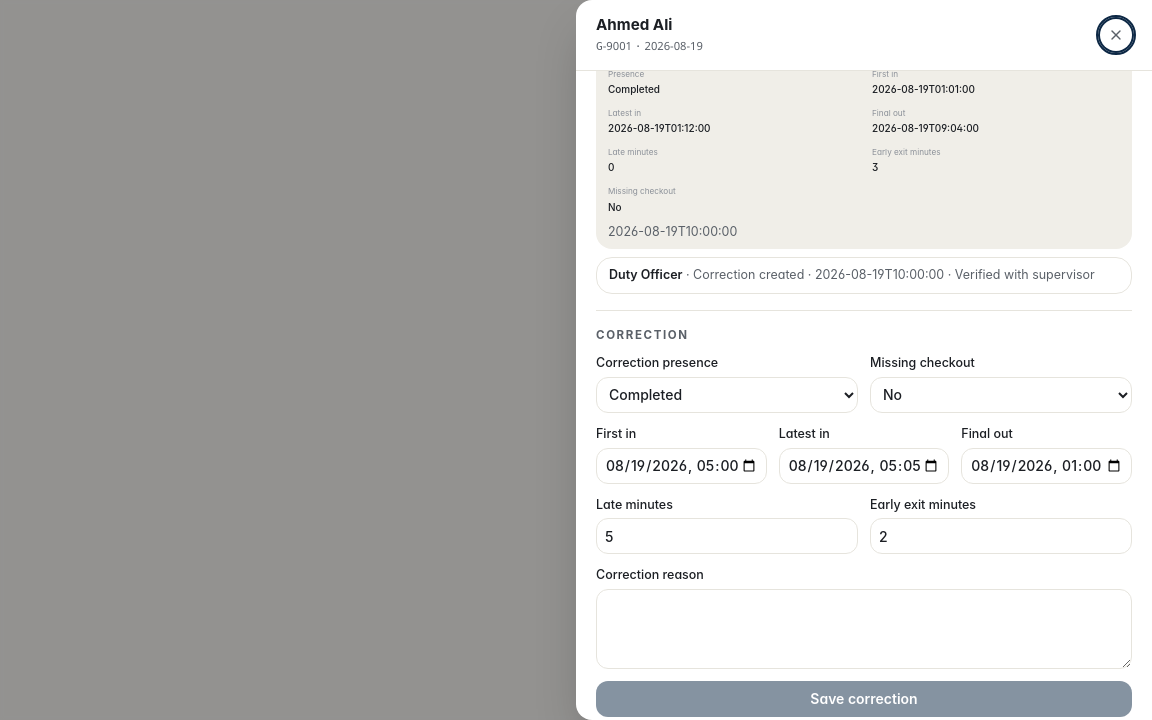
Test: AttendanceCorrectionDrawer › restores the conflicted draft on refreshed evidence without retrying
(page scrolled)
Check: the heading "Correction" is shown, box [596,328,689,342]
Select "Absent" in the dropdown labelled "Correction presence" at x=727, y=395, box [596,377,858,413]
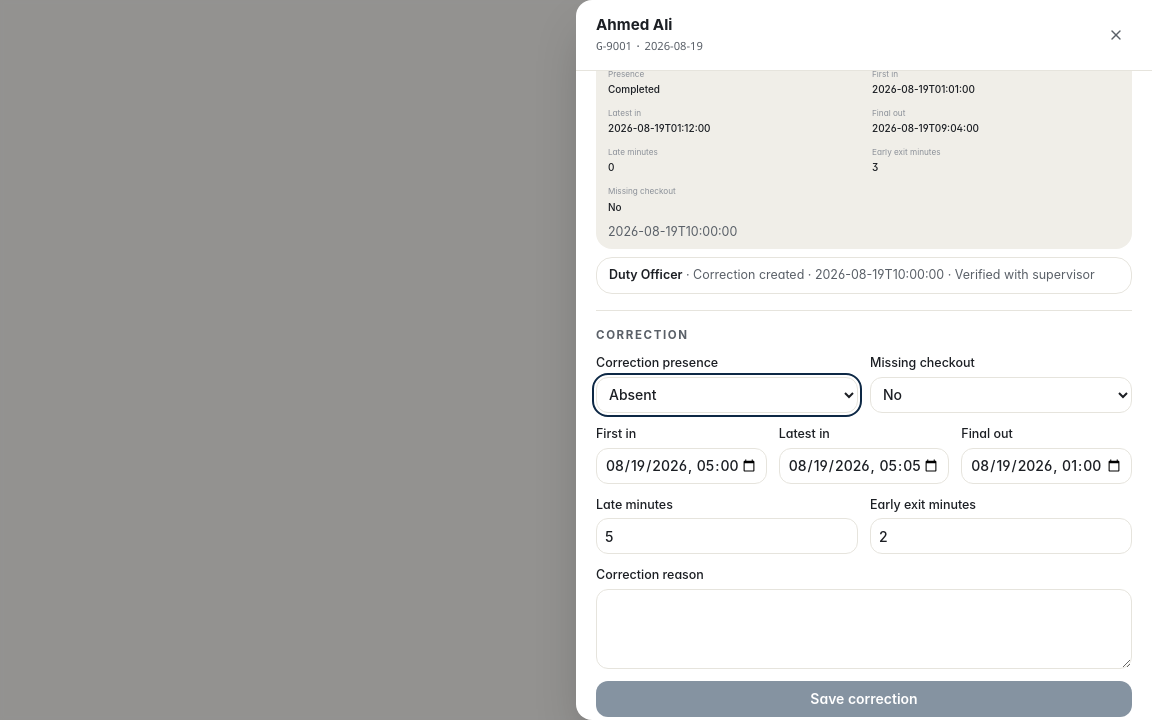
Type "Supervisor register" into the text box labelled "Correction reason" at x=864, y=629, box [596,589,1132,669]
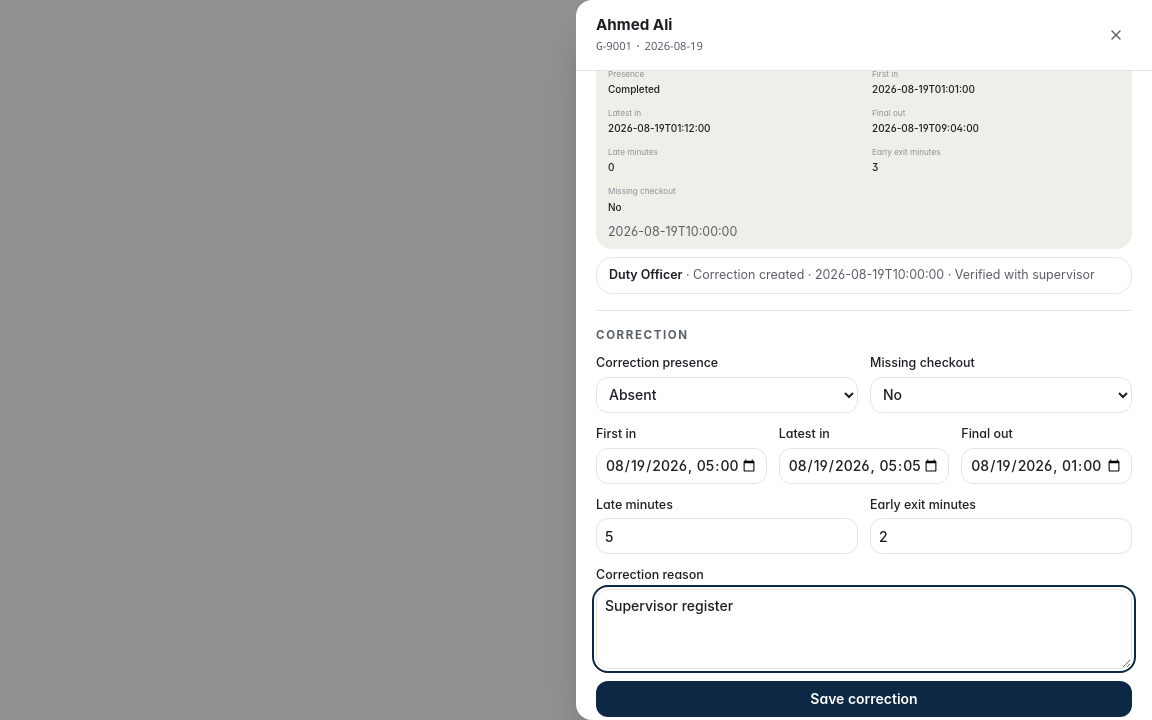
Click the button "Save correction" at x=864, y=699, box [596,681,1132,717]
(page scrolled)
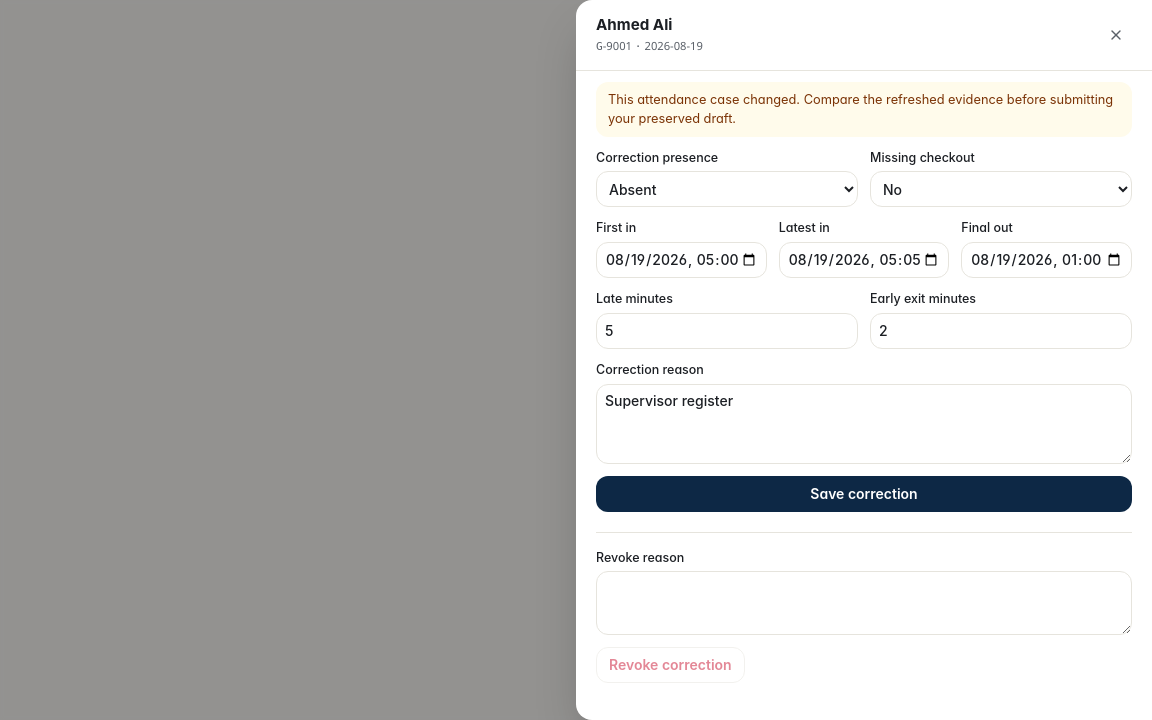
Check: the button "Save correction" is enabled, box [596,476,1132,512]
Check: the text "This attendance case changed" is shown, box [608,92,1113,126]
